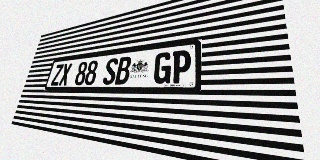8: (84, 60, 99, 85), (74, 61, 89, 85)
B: (114, 56, 132, 84)
G: (153, 51, 172, 84)
P: (171, 49, 192, 83)
S: (102, 58, 119, 85)
X: (58, 63, 72, 86)
Z: (50, 64, 64, 86)
